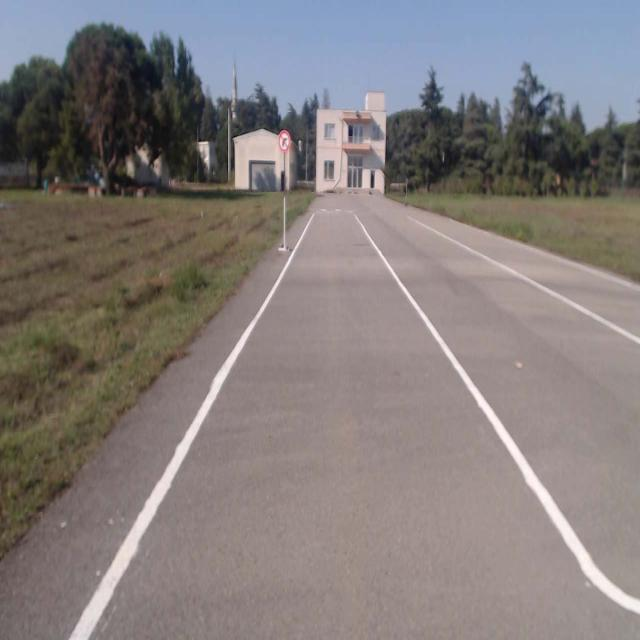sagadonulmez: (279, 130, 291, 152)
